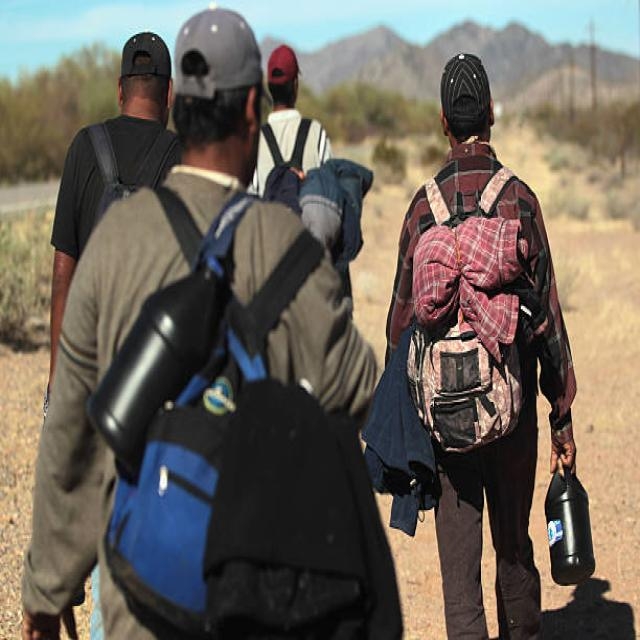civilian: (23, 9, 402, 638), (386, 54, 576, 638), (50, 32, 179, 380), (253, 45, 332, 195)
